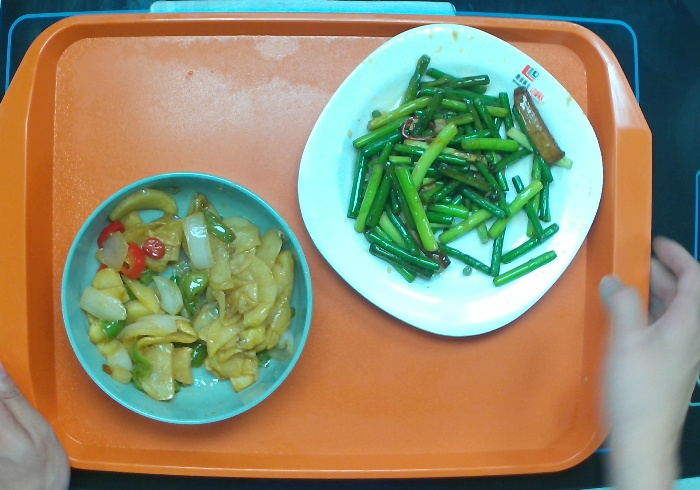ZNLD-Qing_Hua_Yuan_Wan: (56, 170, 316, 427)
ZNLD-Yuan_Jiao_Pan: (294, 22, 606, 339)
